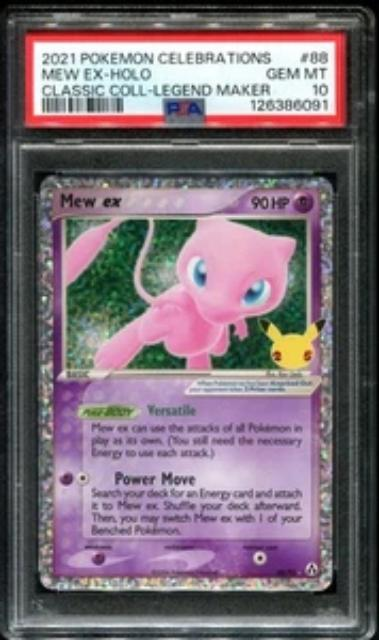Card: (34, 169, 340, 597)
Name: (53, 190, 125, 212)
